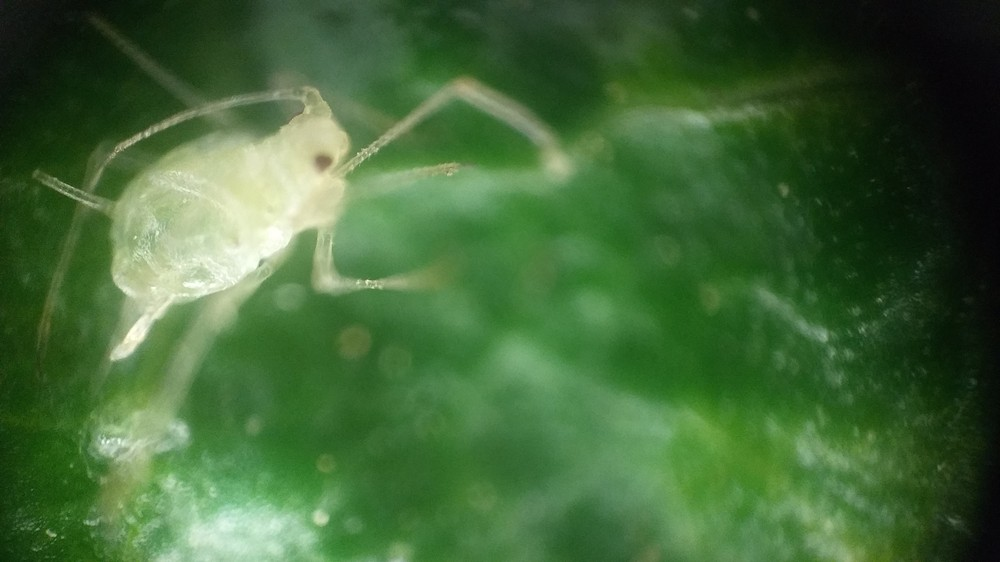Pulgon: (32, 13, 593, 396)
